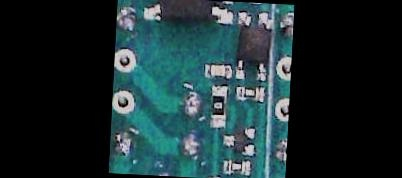chip-capacitor: (200, 61, 234, 81)
chip-resistor: (208, 83, 229, 129), (232, 83, 264, 106), (220, 157, 252, 178)
ic: (232, 8, 272, 83), (136, 0, 234, 29)
transistor: (221, 124, 258, 159)
